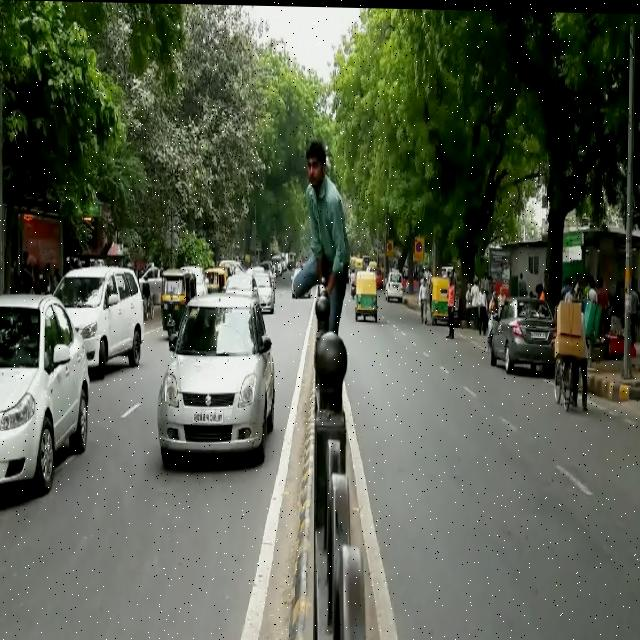plate: (193, 407, 224, 425), (531, 324, 548, 340)
